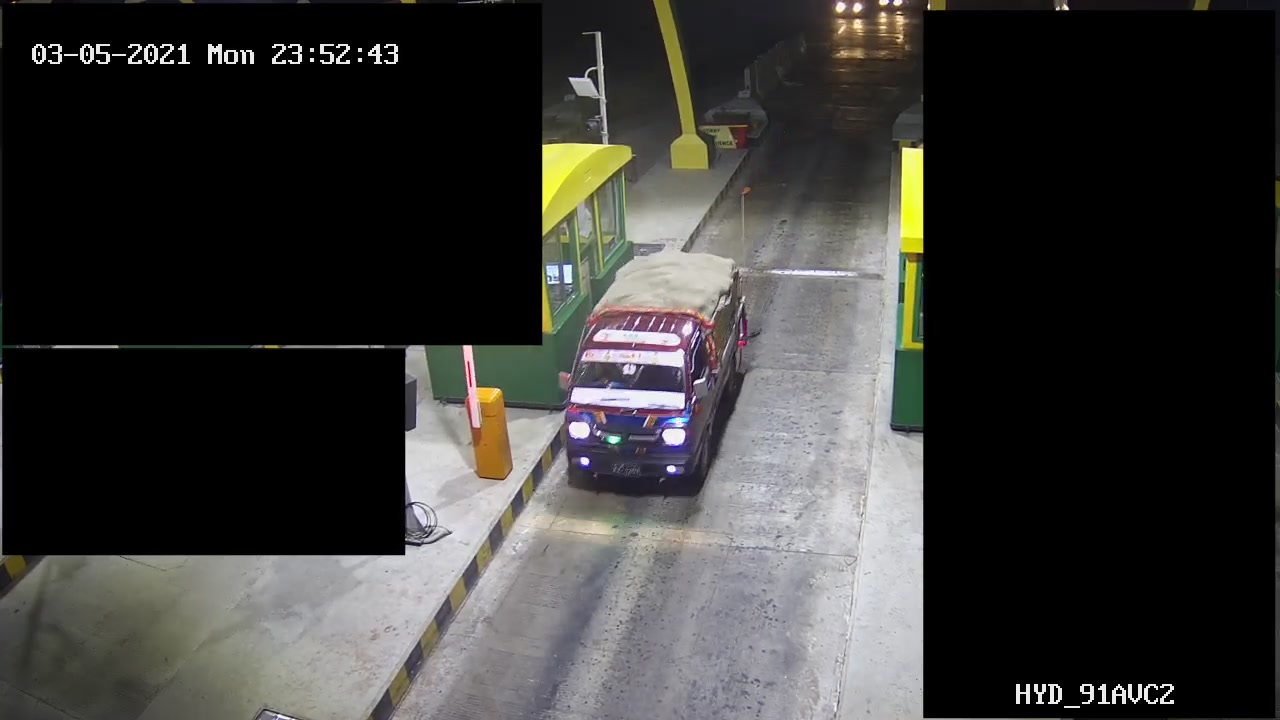F1: (549, 247, 753, 500)
